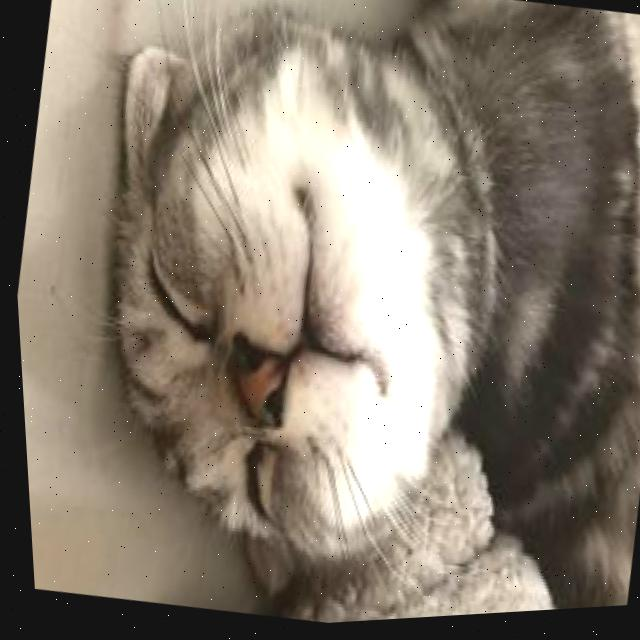Scottish Fold: (18, 0, 640, 639)
